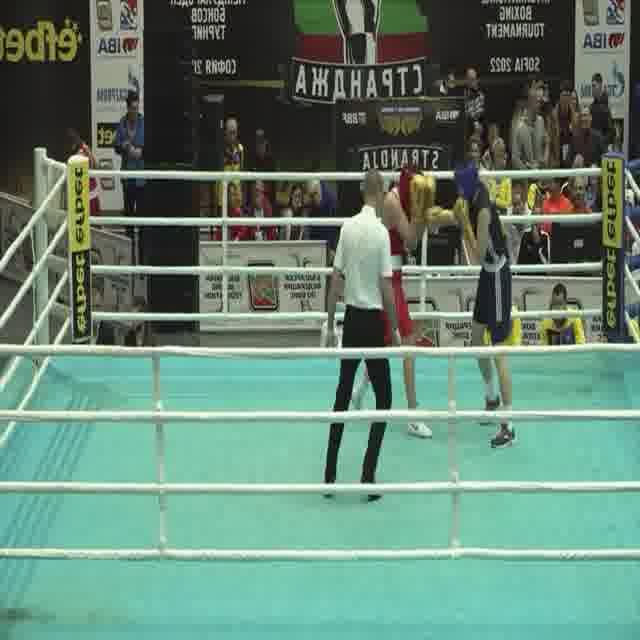blue-player: (425, 162, 519, 454)
red-player: (348, 160, 438, 442)
referee: (319, 170, 407, 505)
